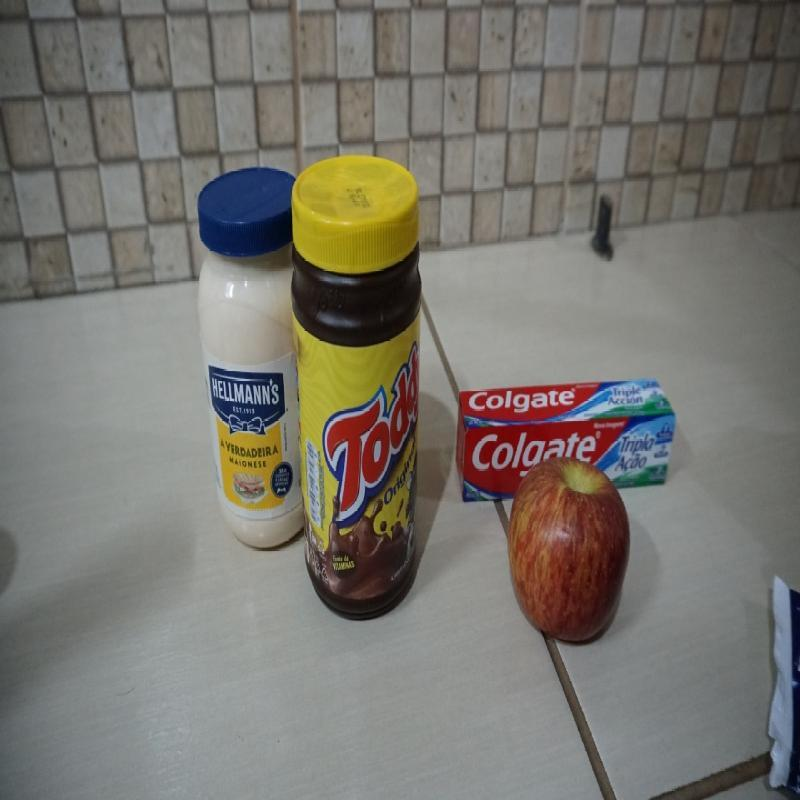Apple: (508, 456, 632, 642)
Chocolate Powder: (287, 150, 427, 628)
Mayonnaise: (193, 164, 309, 556)
Toothpaste: (454, 373, 678, 502)
